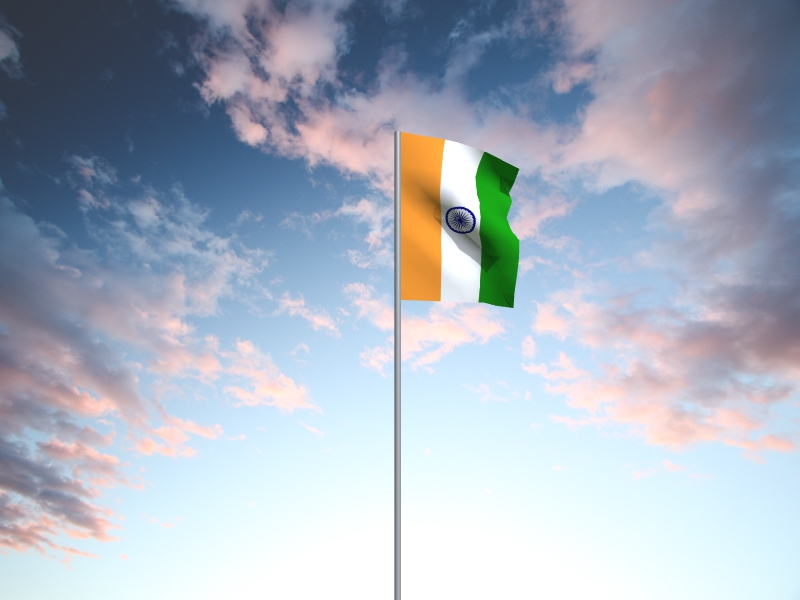in: (401, 132, 521, 310)
